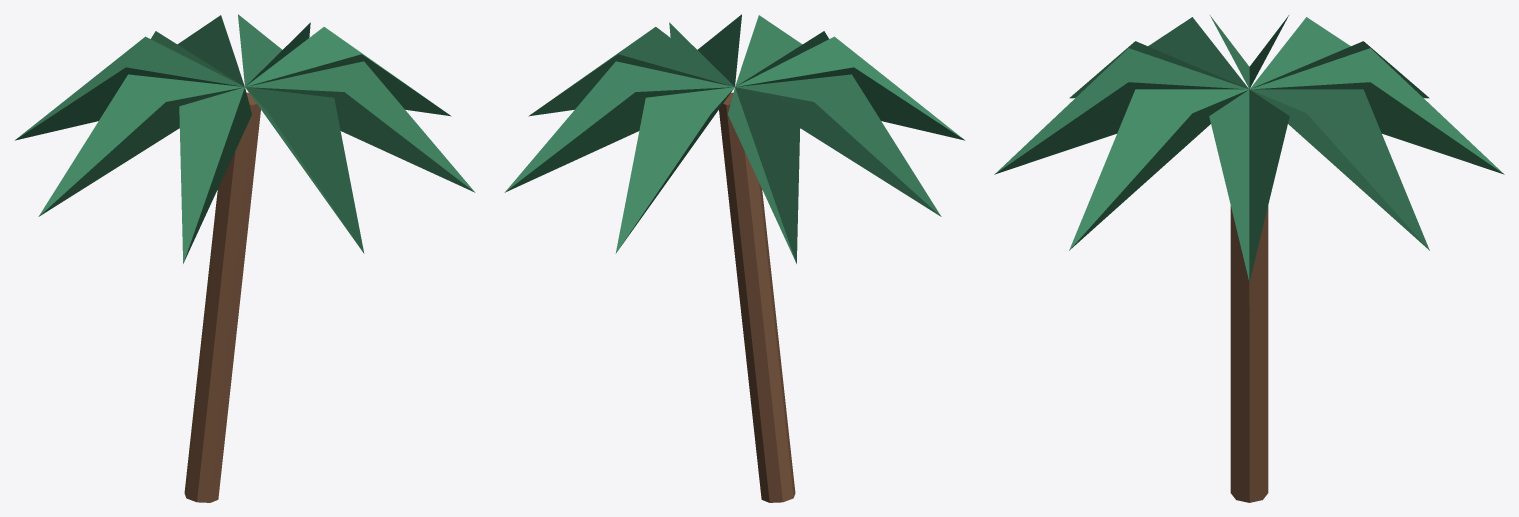
The model's file is nature_palm.glb.
The picture shows the model from 3 angles, left to right: view 1: azimuth 30°, elevation 25°; view 2: azimuth 150°, elevation 25°; view 3: azimuth 270°, elevation 25°; orthographic projection. The views are drawn at different scales.
Parts seen in each view (by area): view 1: nature_palm; view 2: nature_palm; view 3: nature_palm.
Boxes of the visible parts, x1,y1,x2,y2 form: nature_palm: [15, 14, 475, 502]; nature_palm: [504, 14, 964, 502]; nature_palm: [994, 15, 1504, 502].
Size of the model in its own units: 3.8 by 3.72 by 3.8.
